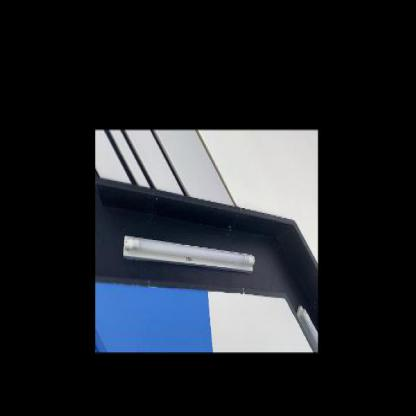light_off: (118, 225, 258, 281), (293, 296, 318, 352)
